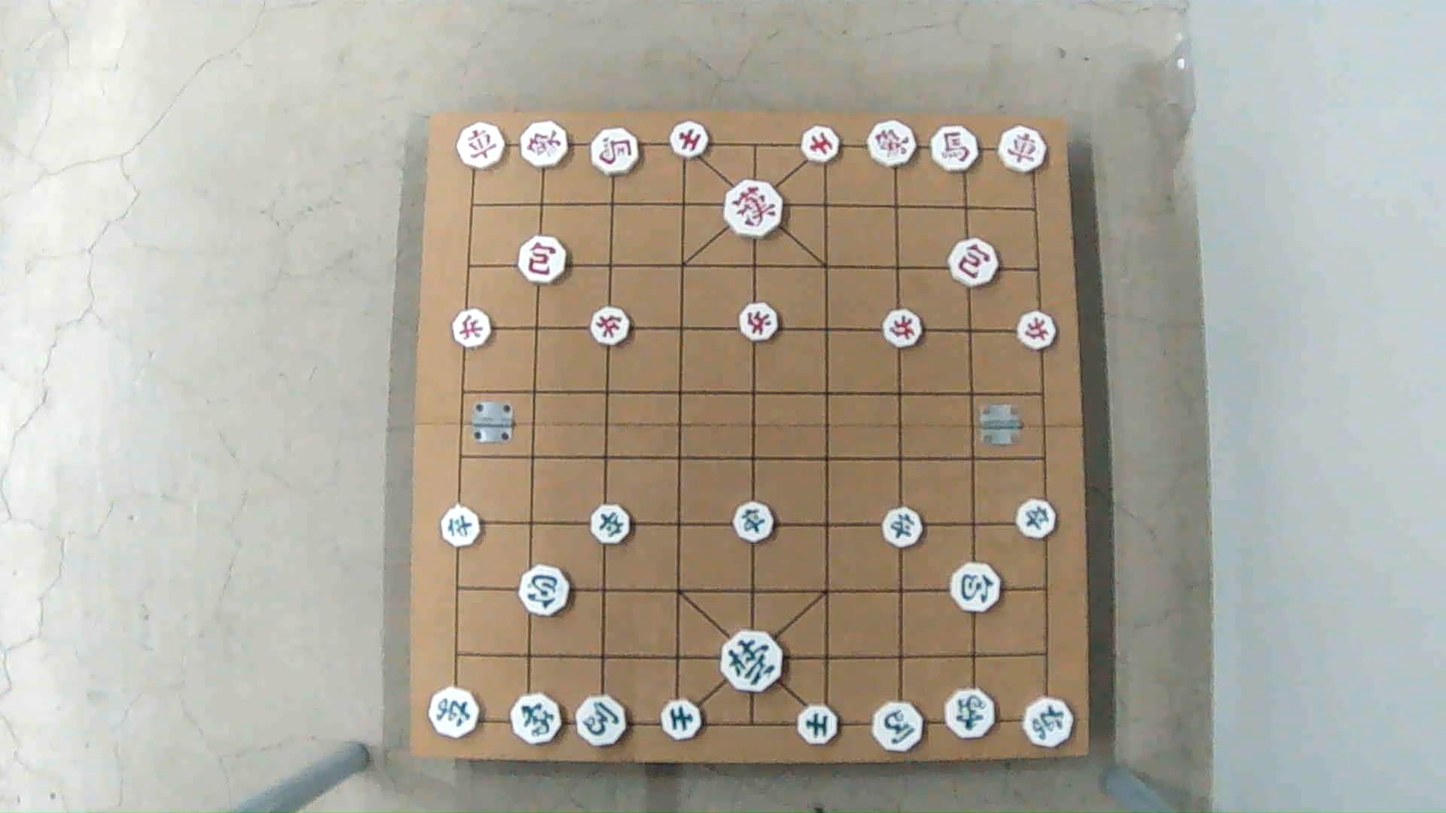cha_green: (1020, 699, 1075, 748), (427, 687, 478, 738)
cha_red: (999, 127, 1053, 170), (459, 125, 513, 168)
jol_green: (587, 504, 633, 541), (1013, 500, 1058, 536), (731, 504, 775, 540), (439, 508, 483, 544), (880, 510, 924, 545)
jol_red: (589, 308, 633, 346), (450, 312, 495, 346), (1016, 315, 1061, 349), (737, 304, 779, 340), (880, 312, 922, 347)
ma_green: (574, 698, 630, 745), (871, 703, 927, 749)
ma_red: (591, 129, 644, 175), (929, 128, 982, 171)
po_green: (951, 565, 1003, 615), (517, 568, 572, 613)
po_red: (949, 241, 1001, 287), (517, 238, 570, 282)
sa_green: (795, 707, 840, 744), (660, 699, 701, 737)
sa_red: (800, 127, 842, 162), (670, 123, 712, 157)
sang_green: (512, 693, 561, 747), (944, 690, 996, 738)
sang_red: (867, 123, 920, 166), (522, 123, 575, 166)
wang_green: (719, 633, 786, 690)
wang_red: (721, 181, 786, 234)
